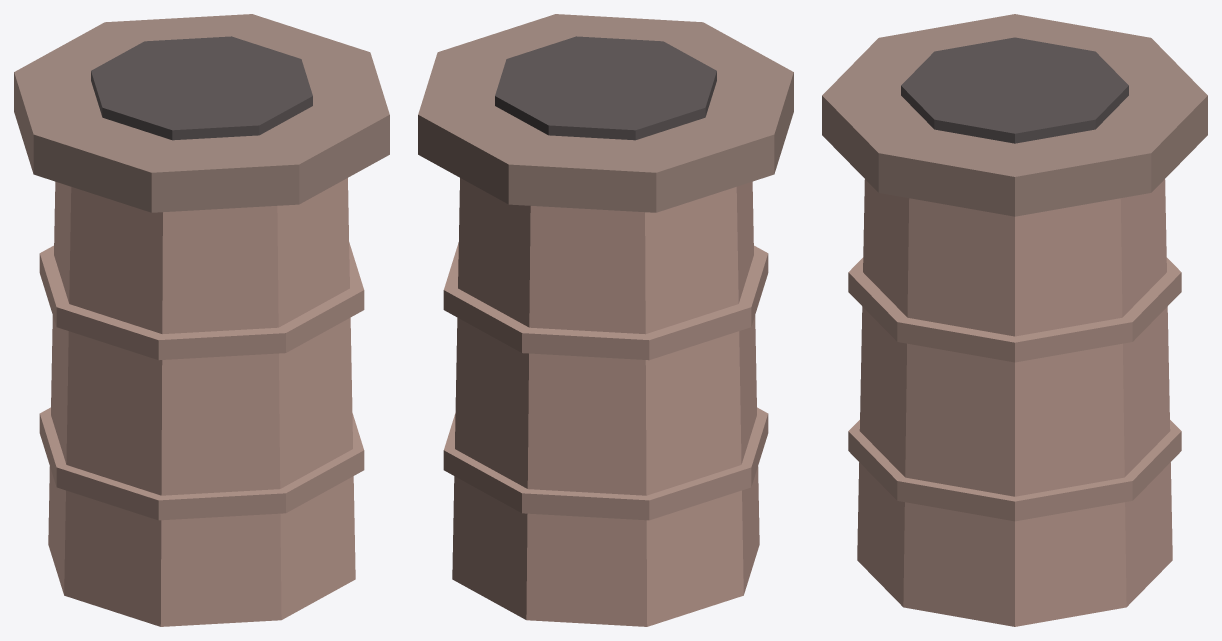
Rendered from Home_Chimney.fbx.
The picture shows the model from 3 angles, left to right: view 1: azimuth 30°, elevation 25°; view 2: azimuth 150°, elevation 25°; view 3: azimuth 270°, elevation 25°; orthographic projection.
Parts seen in each view (by area): view 1: Stack, Cap, Soot, Band.001, Band; view 2: Stack, Cap, Soot, Band.001, Band; view 3: Stack, Cap, Soot, Band.001, Band.
Boxes of the visible parts, bbox=[...] form: Stack: bbox=[48, 178, 355, 626]; Cap: bbox=[14, 14, 389, 212]; Soot: bbox=[91, 36, 312, 140]; Band.001: bbox=[39, 243, 364, 360]; Band: bbox=[39, 407, 364, 520]; Stack: bbox=[452, 178, 759, 626]; Cap: bbox=[418, 14, 793, 212]; Soot: bbox=[495, 36, 716, 140]; Band.001: bbox=[443, 243, 768, 360]; Band: bbox=[443, 407, 768, 520]; Stack: bbox=[857, 179, 1172, 626]; Cap: bbox=[822, 14, 1207, 216]; Soot: bbox=[901, 37, 1128, 143]; Band.001: bbox=[848, 257, 1181, 362]; Band: bbox=[848, 420, 1181, 521].
Bounding box in the file's own units: 0.88 × 1.19 × 0.88.
